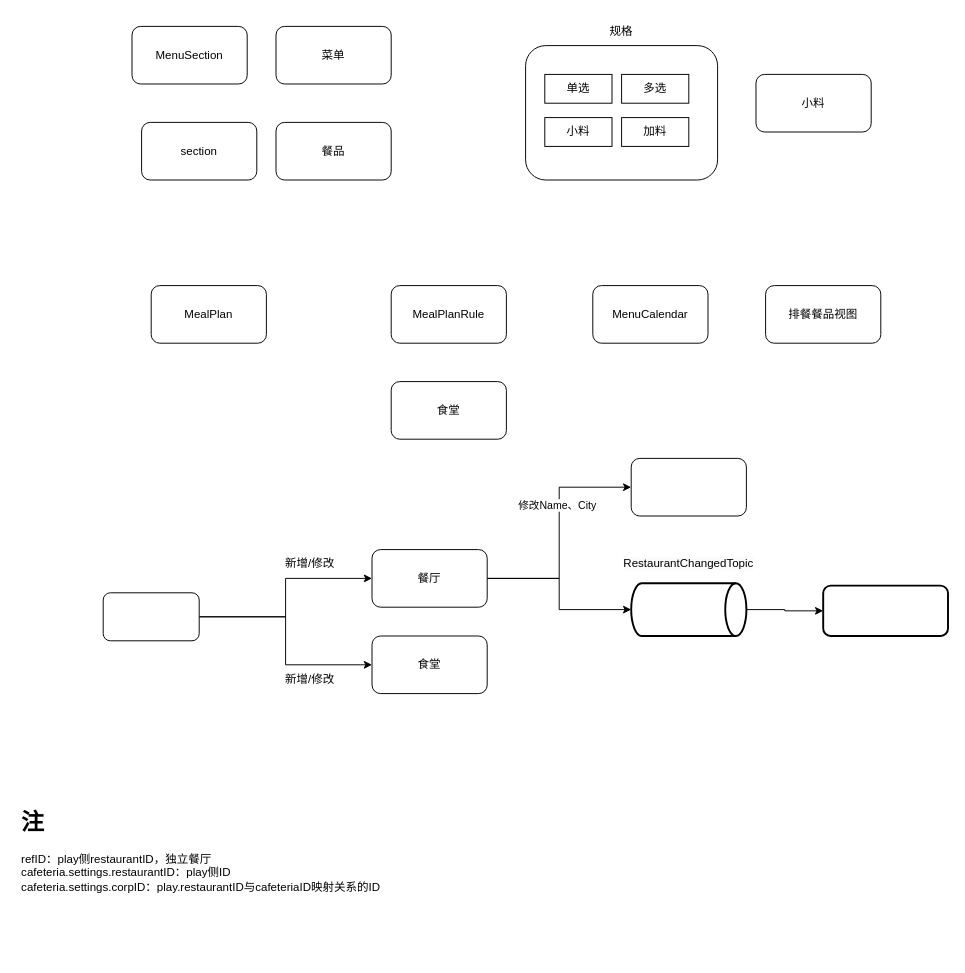
Image size: 965x973. Some labels were removed from this diagram. Here are the shapes that lost their labels. From the top down, the centre of each, then its label:
At point (688, 486): "play".
At point (150, 616): "ops".
At point (885, 610): "es：id-2".
